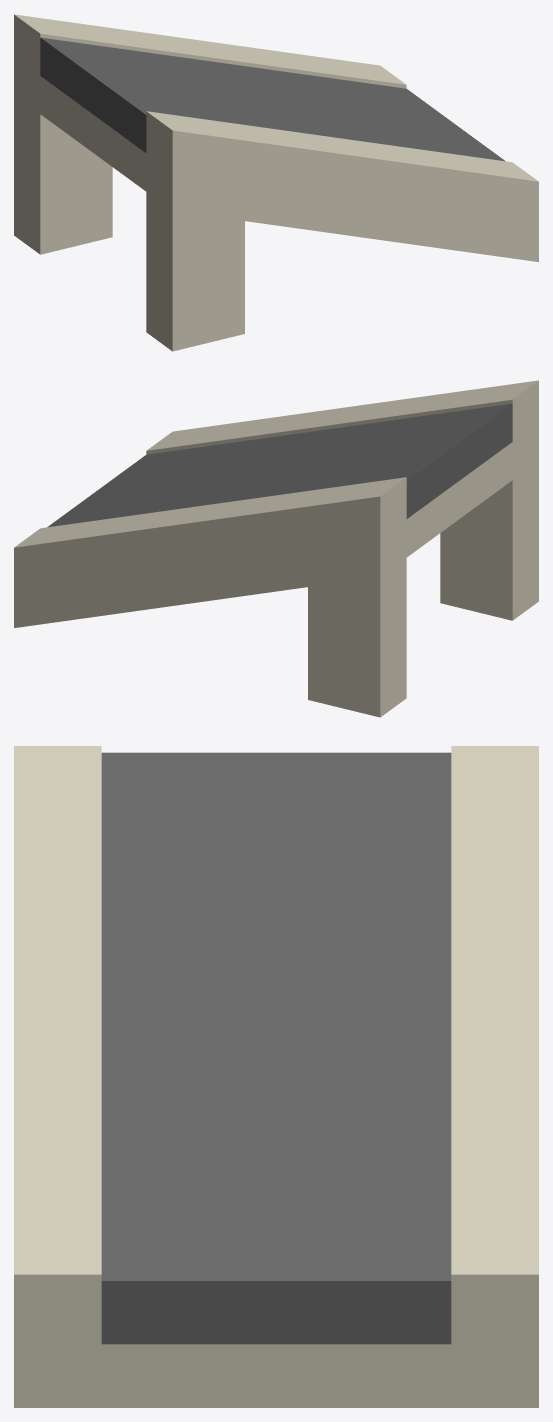
The model's file is roadTile_226.obj.
The picture shows the model from 3 angles, top to bottom: view 1: azimuth 30°, elevation 25°; view 2: azimuth 150°, elevation 25°; view 3: azimuth 270°, elevation 25°; orthographic projection. The views are drawn at different scales.
Visible parts, largest first — view 1: roadTile_226; view 2: roadTile_226; view 3: roadTile_226.
Part boxes in pixels (box(x1,y1,x2,y2)): roadTile_226: box(14, 14, 538, 351); roadTile_226: box(14, 380, 538, 717); roadTile_226: box(14, 746, 538, 1407).
Size of the model in its own units: 3 by 1.73 by 2.25.
